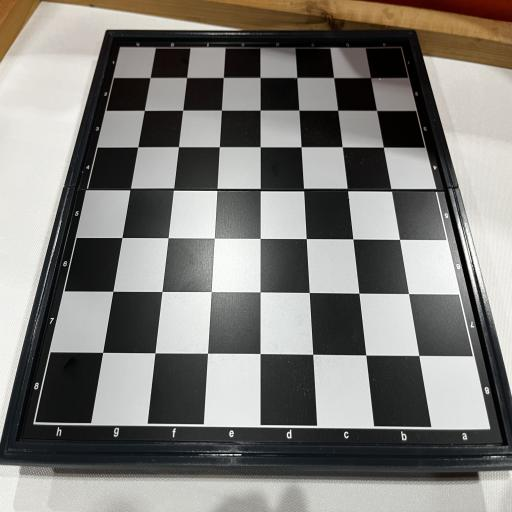Board: (0, 29, 512, 472)
